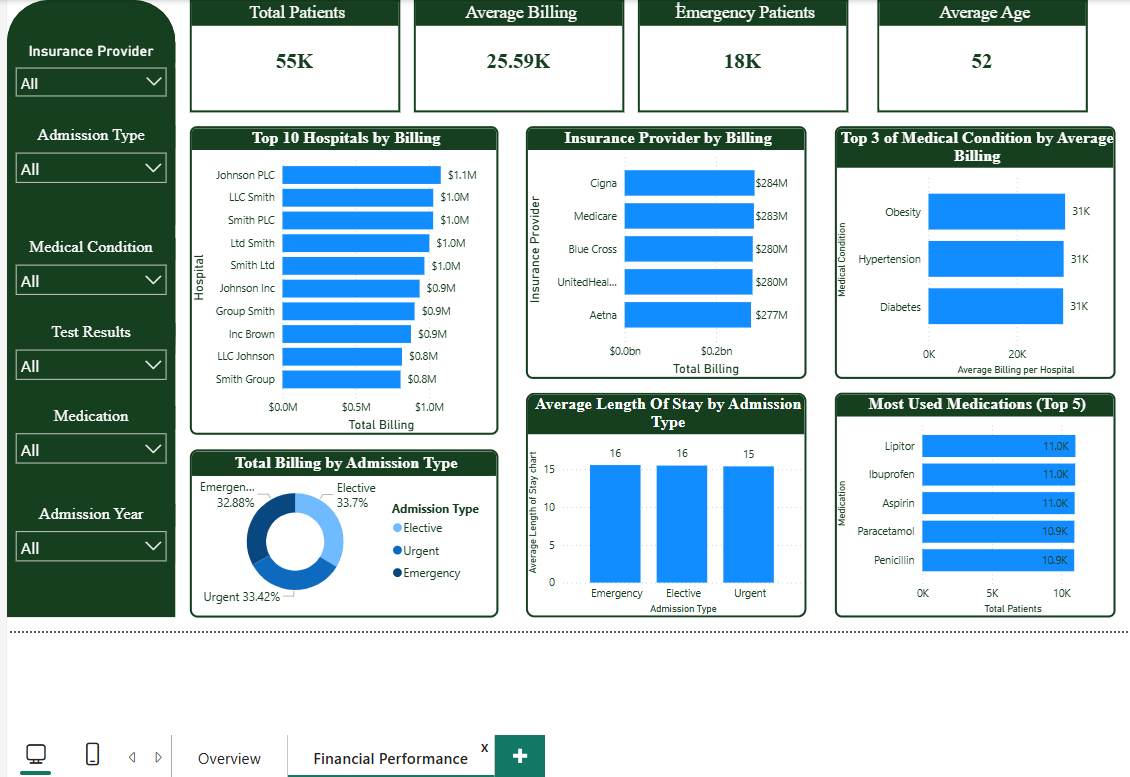

The dashboard page shown, as its layout file describes it:
{"tool":"powerbi","page":{"name":"Financial Performance","canvas":[1280,720],"ordinal":1},"visuals":[{"type":"cardVisual","title":"Total Patients","fields":{"Data":["Measure.Total Patients"]},"box":[208,0,240,128],"z":0},{"type":"cardVisual","title":"ُEmergency Patients","fields":{"Data":["Measure.Emergency Patients"]},"box":[720,0,240,128],"z":1000},{"type":"cardVisual","title":"Average Age","fields":{"Data":["Measure.Average Age"]},"box":[992,0,240,128],"z":2000},{"type":"cardVisual","title":"Average Billing","fields":{"Data":["Avg(healthcare_dataset.Billing Amount)"]},"box":[464,0,240,128],"z":3000},{"type":"clusteredColumnChart","title":"Average Length Of Stay by Admission Type","fields":{"Category":["healthcare_dataset.Admission Type"],"Y":["Measure.Average Length of Stay Rounded"]},"box":[592,448,320,256],"z":4000},{"type":"clusteredBarChart","title":"Insurance Provider by Billing","fields":{"Category":["healthcare_dataset.Insurance Provider"],"Y":["Measure.Total Billing"]},"box":[592,144,320,288],"z":5000},{"type":"clusteredBarChart","title":"Top 10  Hospitals by Billing","fields":{"Category":["healthcare_dataset.Hospital"],"Y":["Measure.Total Billing"]},"box":[208,144,352,352],"z":6000},{"type":"clusteredBarChart","title":"Most Used Medications (Top 5)","fields":{"Y":["Measure.Total Patients"],"Category":["healthcare_dataset.Medication"]},"box":[944,448,320,256],"z":7000},{"type":"donutChart","fields":{"Category":["healthcare_dataset.Admission Type"],"Y":["Measure.Total Billing"]},"box":[208,512,352,192],"z":8000},{"type":"shape","box":[0,0,192,688],"z":9000},{"type":"slicer","title":"Insurance Provider","fields":{"Values":["healthcare_dataset.Insurance Provider"]},"box":[0,48,192,96],"z":10000},{"type":"slicer","title":"Admission Type","fields":{"Values":["healthcare_dataset.Admission Type"]},"box":[0,144,192,112],"z":11000},{"type":"slicer","title":"Medical Condition","fields":{"Values":["healthcare_dataset.Medical Condition"]},"box":[0,272,192,112],"z":12000},{"type":"slicer","title":"Test Results","fields":{"Values":["healthcare_dataset.Test Results"]},"box":[0,368,192,96],"z":13000},{"type":"slicer","title":"Medication","fields":{"Values":["healthcare_dataset.Medication"]},"box":[0,464,192,112],"z":14000},{"type":"slicer","title":"Admission Year","fields":{"Values":["healthcare_dataset.Admission Year"]},"box":[0,576,192,128],"z":15000},{"type":"clusteredBarChart","title":"Top 3 of Medical Condition by Average Billing","fields":{"Category":["healthcare_dataset.Medical Condition"],"Y":["Measure.Average Billing per Hospital"]},"box":[944,144,320,288],"z":16000}]}

Visuals, with their boxes in screenshot pixels (x1, y1, x2, y2):
"Total Patients" cardVisual: pyautogui.locateOnScreen(184, 0, 393, 111)
"ُEmergency Patients" cardVisual: pyautogui.locateOnScreen(630, 0, 839, 111)
"Average Age" cardVisual: pyautogui.locateOnScreen(867, 0, 1076, 111)
"Average Billing" cardVisual: pyautogui.locateOnScreen(407, 0, 616, 111)
"Average Length Of Stay by Admission Type" clusteredColumnChart: pyautogui.locateOnScreen(518, 390, 797, 613)
"Insurance Provider by Billing" clusteredBarChart: pyautogui.locateOnScreen(518, 125, 797, 376)
"Top 10  Hospitals by Billing" clusteredBarChart: pyautogui.locateOnScreen(184, 125, 490, 432)
"Most Used Medications (Top 5)" clusteredBarChart: pyautogui.locateOnScreen(825, 390, 1103, 613)
donutChart - healthcare_dataset.Admission Type x Measure.Total Billing: pyautogui.locateOnScreen(184, 446, 490, 613)
shape: pyautogui.locateOnScreen(3, 0, 170, 599)
"Insurance Provider" slicer: pyautogui.locateOnScreen(3, 42, 170, 125)
"Admission Type" slicer: pyautogui.locateOnScreen(3, 125, 170, 223)
"Medical Condition" slicer: pyautogui.locateOnScreen(3, 237, 170, 334)
"Test Results" slicer: pyautogui.locateOnScreen(3, 320, 170, 404)
"Medication" slicer: pyautogui.locateOnScreen(3, 404, 170, 501)
"Admission Year" slicer: pyautogui.locateOnScreen(3, 501, 170, 613)
"Top 3 of Medical Condition by Average Billing" clusteredBarChart: pyautogui.locateOnScreen(825, 125, 1103, 376)
